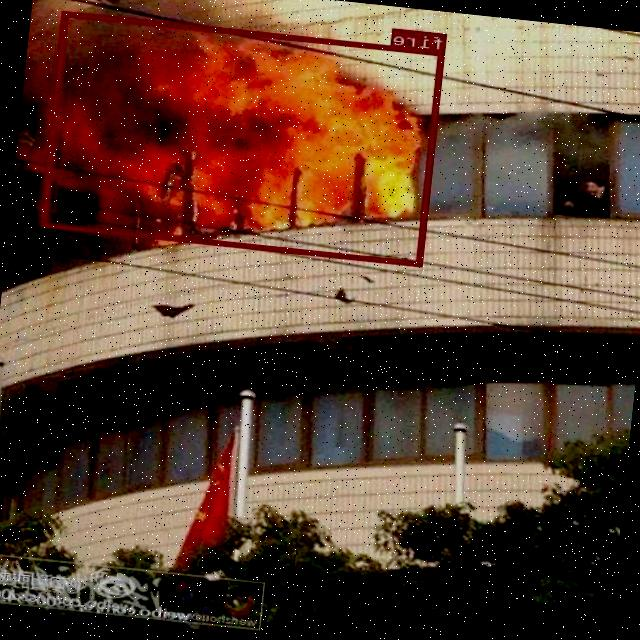fire: (42, 10, 444, 265)
